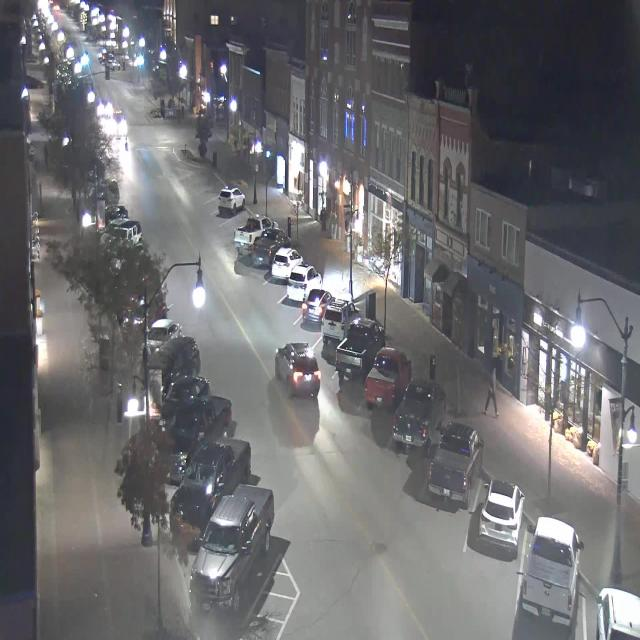available: (220, 210, 255, 241)
occupied: (189, 483, 274, 614), (168, 437, 252, 537), (520, 514, 584, 627), (154, 391, 239, 470), (428, 421, 483, 509), (391, 377, 446, 455), (478, 478, 525, 554), (335, 316, 385, 386), (364, 346, 412, 410), (150, 332, 208, 382), (595, 586, 640, 639), (250, 226, 292, 265), (168, 376, 213, 412), (320, 297, 359, 336), (233, 214, 273, 252), (286, 262, 322, 303), (301, 286, 333, 325), (270, 248, 303, 282), (218, 186, 245, 215)
